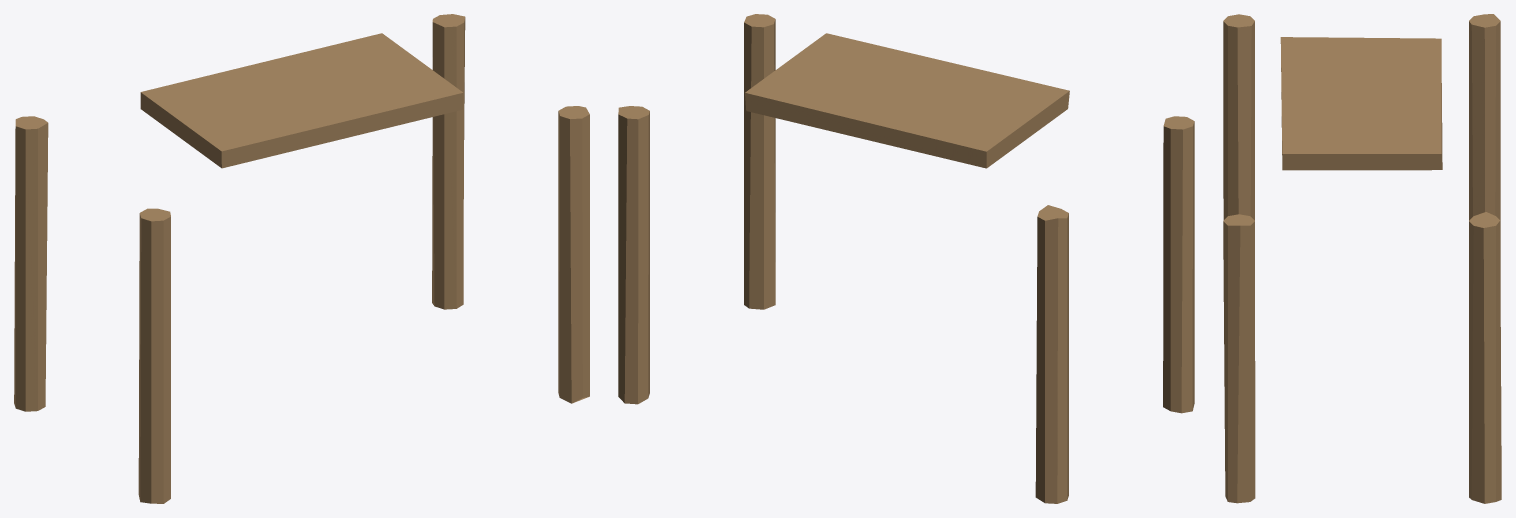
The model's file is table_wooden.glb.
3 renders of one model, left to right at view 1: azimuth 30°, elevation 25°; view 2: azimuth 150°, elevation 25°; view 3: azimuth 270°, elevation 25°, orthographic. The views are drawn at different scales.
Parts seen in each view (by area): view 1: table_wooden; view 2: table_wooden; view 3: table_wooden.
Boxes of the visible parts, bbox=[...] form: table_wooden: bbox=[14, 14, 589, 503]; table_wooden: bbox=[618, 14, 1194, 503]; table_wooden: bbox=[1223, 14, 1501, 503].
Size of the model in its own units: 1.12 by 0.7377 by 0.6123.
